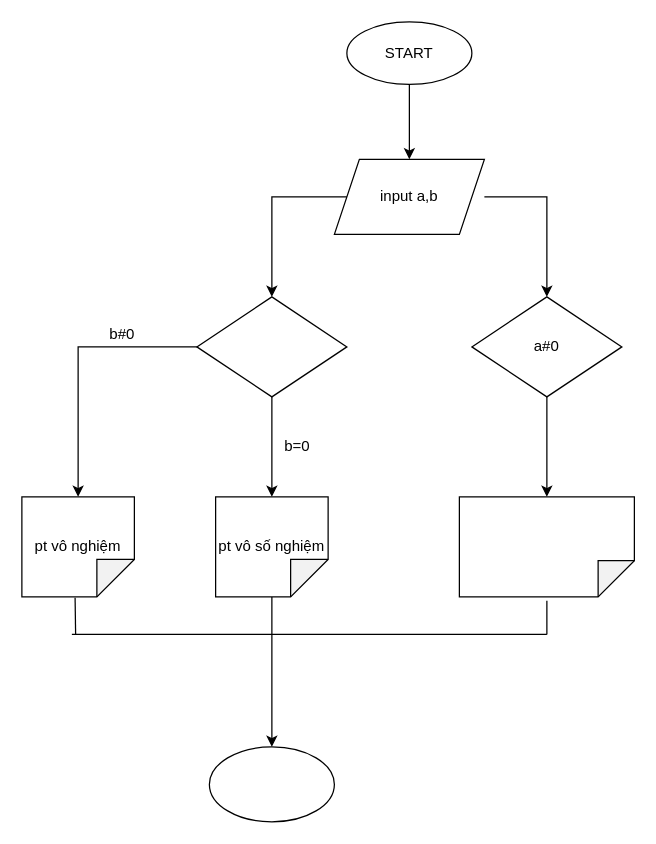
The diagram is 656 pixels wide and 844 high, and some of its shapes have lost their labels. The box of each missing label's shape, as (x1, y1, x2, y2) in pixels:
a=0: (196, 296, 347, 397)
end: (208, 746, 334, 822)
pt có nghiệm x = -b/a: (458, 496, 634, 597)
